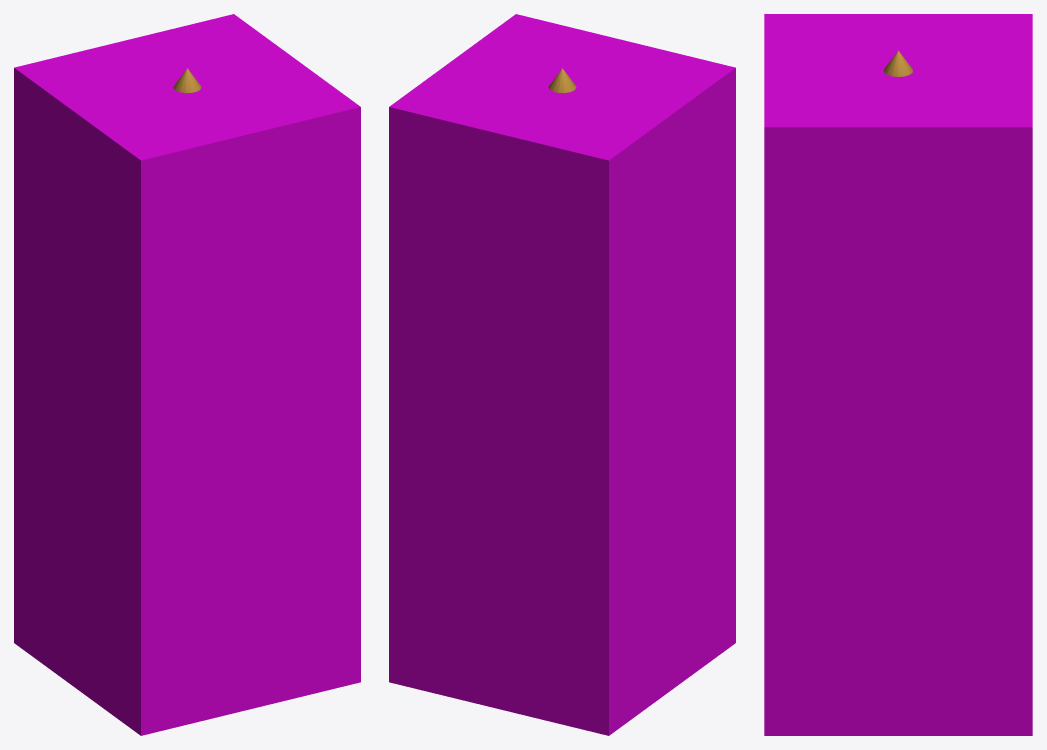
The model's file is PRP_Brass_Lamp_Stand_A.glb.
3 views of the same model, side by side, from view 1: azimuth 30°, elevation 25°; view 2: azimuth 150°, elevation 25°; view 3: azimuth 270°, elevation 25° (orthographic). The views are drawn at different scales.
Visible parts, largest first — view 1: COL_Stand; view 2: COL_Stand; view 3: COL_Stand, PRP_Brass_Lamp_Stand_A_Mesh.
Part boxes in pixels (box(x1,y1,x2,y2)): COL_Stand: box(14, 14, 360, 735); COL_Stand: box(389, 14, 735, 735); COL_Stand: box(764, 14, 1032, 735); PRP_Brass_Lamp_Stand_A_Mesh: box(884, 50, 912, 76).
Size of the model in its own units: 0.6 by 1.55 by 0.6.
